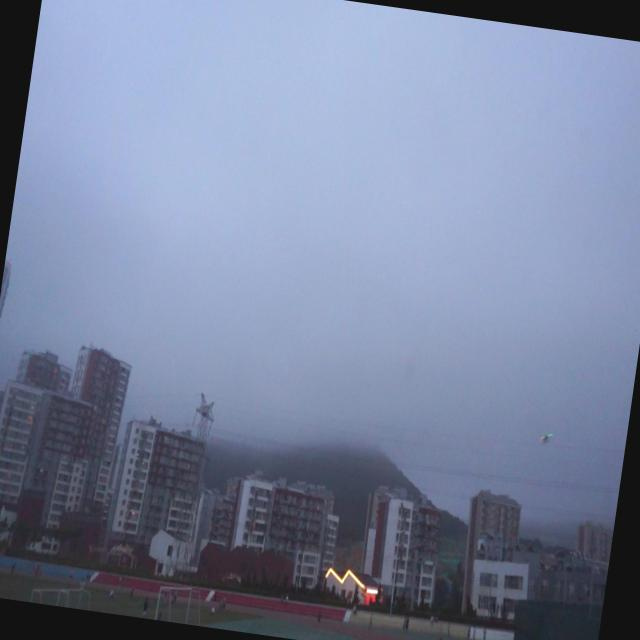drone: (537, 428, 555, 448)
